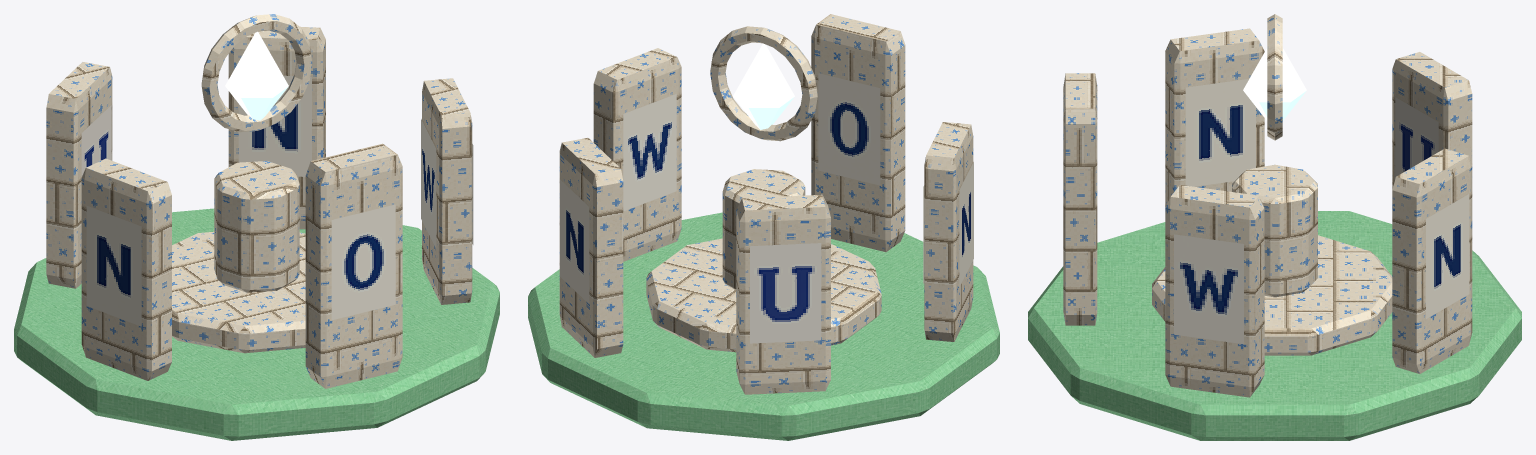
The model's file is altar.glb.
3 renders of one model, left to right at view 1: azimuth 30°, elevation 25°; view 2: azimuth 150°, elevation 25°; view 3: azimuth 270°, elevation 25°, orthographic. The views are drawn at different scales.
Visible parts, largest first — view 1: Base, Tablet2, Tablet1, Step, Pedestal, Tablet3, Tablet0, Glyph2o, Glyph1o, EyeRing, Tablet4, Glyph4i (+3 smaller); view 2: Base, Tablet2, Tablet0, Step, Tablet4, Tablet3, Tablet1, Glyph0o, Glyph2i, Glyph3i, EyeRing, Pedestal (+3 smaller); view 3: Base, Tablet3, Tablet4, Step, Tablet2, Tablet1, Pedestal, Glyph3o, Glyph1i, Tablet0, Glyph4o, Glyph0i (+2 smaller).
Part boxes in pixels (x1=…): Base: x1=14, y1=208, x2=499, y2=440; Tablet2: x1=305, y1=143, x2=402, y2=388; Tablet1: x1=81, y1=158, x2=171, y2=380; Step: x1=172, y1=231, x2=305, y2=353; Pedestal: x1=214, y1=161, x2=299, y2=292; Tablet3: x1=422, y1=78, x2=472, y2=304; Tablet0: x1=46, y1=62, x2=112, y2=288; Glyph2o: x1=331, y1=204, x2=395, y2=320; Glyph1o: x1=86, y1=206, x2=141, y2=326; EyeRing: x1=201, y1=14, x2=312, y2=132; Tablet4: x1=228, y1=26, x2=325, y2=229; Glyph4i: x1=238, y1=75, x2=311, y2=176; Base: x1=528, y1=212, x2=999, y2=440; Tablet2: x1=811, y1=14, x2=905, y2=251; Tablet0: x1=736, y1=194, x2=830, y2=394; Step: x1=646, y1=238, x2=881, y2=352; Tablet4: x1=559, y1=137, x2=623, y2=357; Tablet3: x1=593, y1=48, x2=681, y2=261; Tablet1: x1=924, y1=122, x2=973, y2=341; Glyph0o: x1=750, y1=243, x2=821, y2=343; Glyph2i: x1=818, y1=73, x2=880, y2=185; Glyph3i: x1=623, y1=94, x2=676, y2=211; EyeRing: x1=710, y1=26, x2=817, y2=141; Pedestal: x1=722, y1=169, x2=805, y2=290; Base: x1=1028, y1=211, x2=1521, y2=440; Tablet3: x1=1165, y1=185, x2=1264, y2=397; Tablet4: x1=1392, y1=148, x2=1472, y2=373; Step: x1=1152, y1=235, x2=1392, y2=355; Tablet2: x1=1063, y1=73, x2=1097, y2=325; Tablet1: x1=1165, y1=28, x2=1264, y2=206; Pedestal: x1=1232, y1=164, x2=1317, y2=297; Glyph3o: x1=1174, y1=234, x2=1243, y2=344; Glyph1i: x1=1185, y1=79, x2=1255, y2=186; Tablet0: x1=1392, y1=52, x2=1472, y2=189; Glyph4o: x1=1426, y1=194, x2=1469, y2=318; Glyph0i: x1=1395, y1=97, x2=1438, y2=177.
Size of the model in its own units: 4.76 by 3.59 by 4.95.
7 materials, 6 textured.
